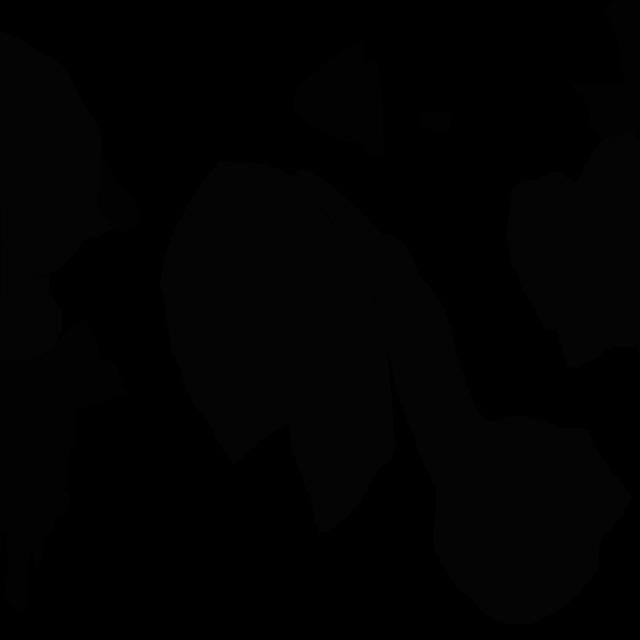cardboard: (0, 358, 77, 615), (18, 319, 130, 420), (293, 41, 385, 160), (570, 0, 640, 142), (97, 153, 142, 232), (421, 111, 451, 132)
soft_plastic: (295, 169, 633, 624), (160, 161, 396, 532), (506, 131, 640, 368), (0, 31, 113, 278), (0, 241, 62, 361)
